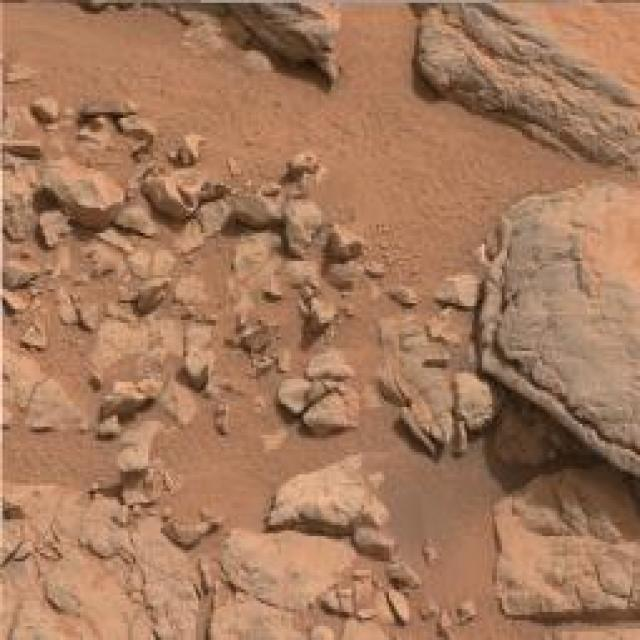rock: (474, 178, 640, 485), (411, 0, 640, 163), (0, 479, 227, 640), (77, 0, 346, 95), (478, 464, 640, 620), (374, 313, 479, 458), (215, 529, 361, 606), (266, 454, 383, 526), (88, 313, 186, 387), (494, 394, 580, 470), (42, 156, 126, 232), (272, 372, 364, 435), (222, 299, 286, 369), (206, 601, 306, 640), (26, 374, 88, 436), (172, 201, 232, 256), (137, 168, 193, 218), (184, 320, 224, 390), (533, 615, 640, 640), (454, 372, 498, 428), (232, 187, 286, 232), (434, 265, 484, 313), (161, 510, 218, 552), (285, 197, 321, 258), (102, 379, 161, 416), (0, 185, 33, 244), (133, 274, 179, 312), (303, 348, 357, 379), (35, 212, 69, 256), (112, 446, 161, 476), (332, 222, 362, 269), (284, 148, 331, 178), (77, 92, 135, 116), (305, 296, 337, 338), (278, 375, 314, 412), (262, 276, 292, 320), (0, 136, 47, 164), (356, 526, 399, 554), (117, 479, 164, 504), (343, 616, 389, 640), (174, 130, 208, 162), (0, 289, 35, 320), (2, 258, 36, 288), (388, 560, 421, 589), (22, 320, 50, 348), (388, 282, 419, 306), (212, 404, 235, 436), (32, 96, 58, 120), (308, 619, 337, 640)
